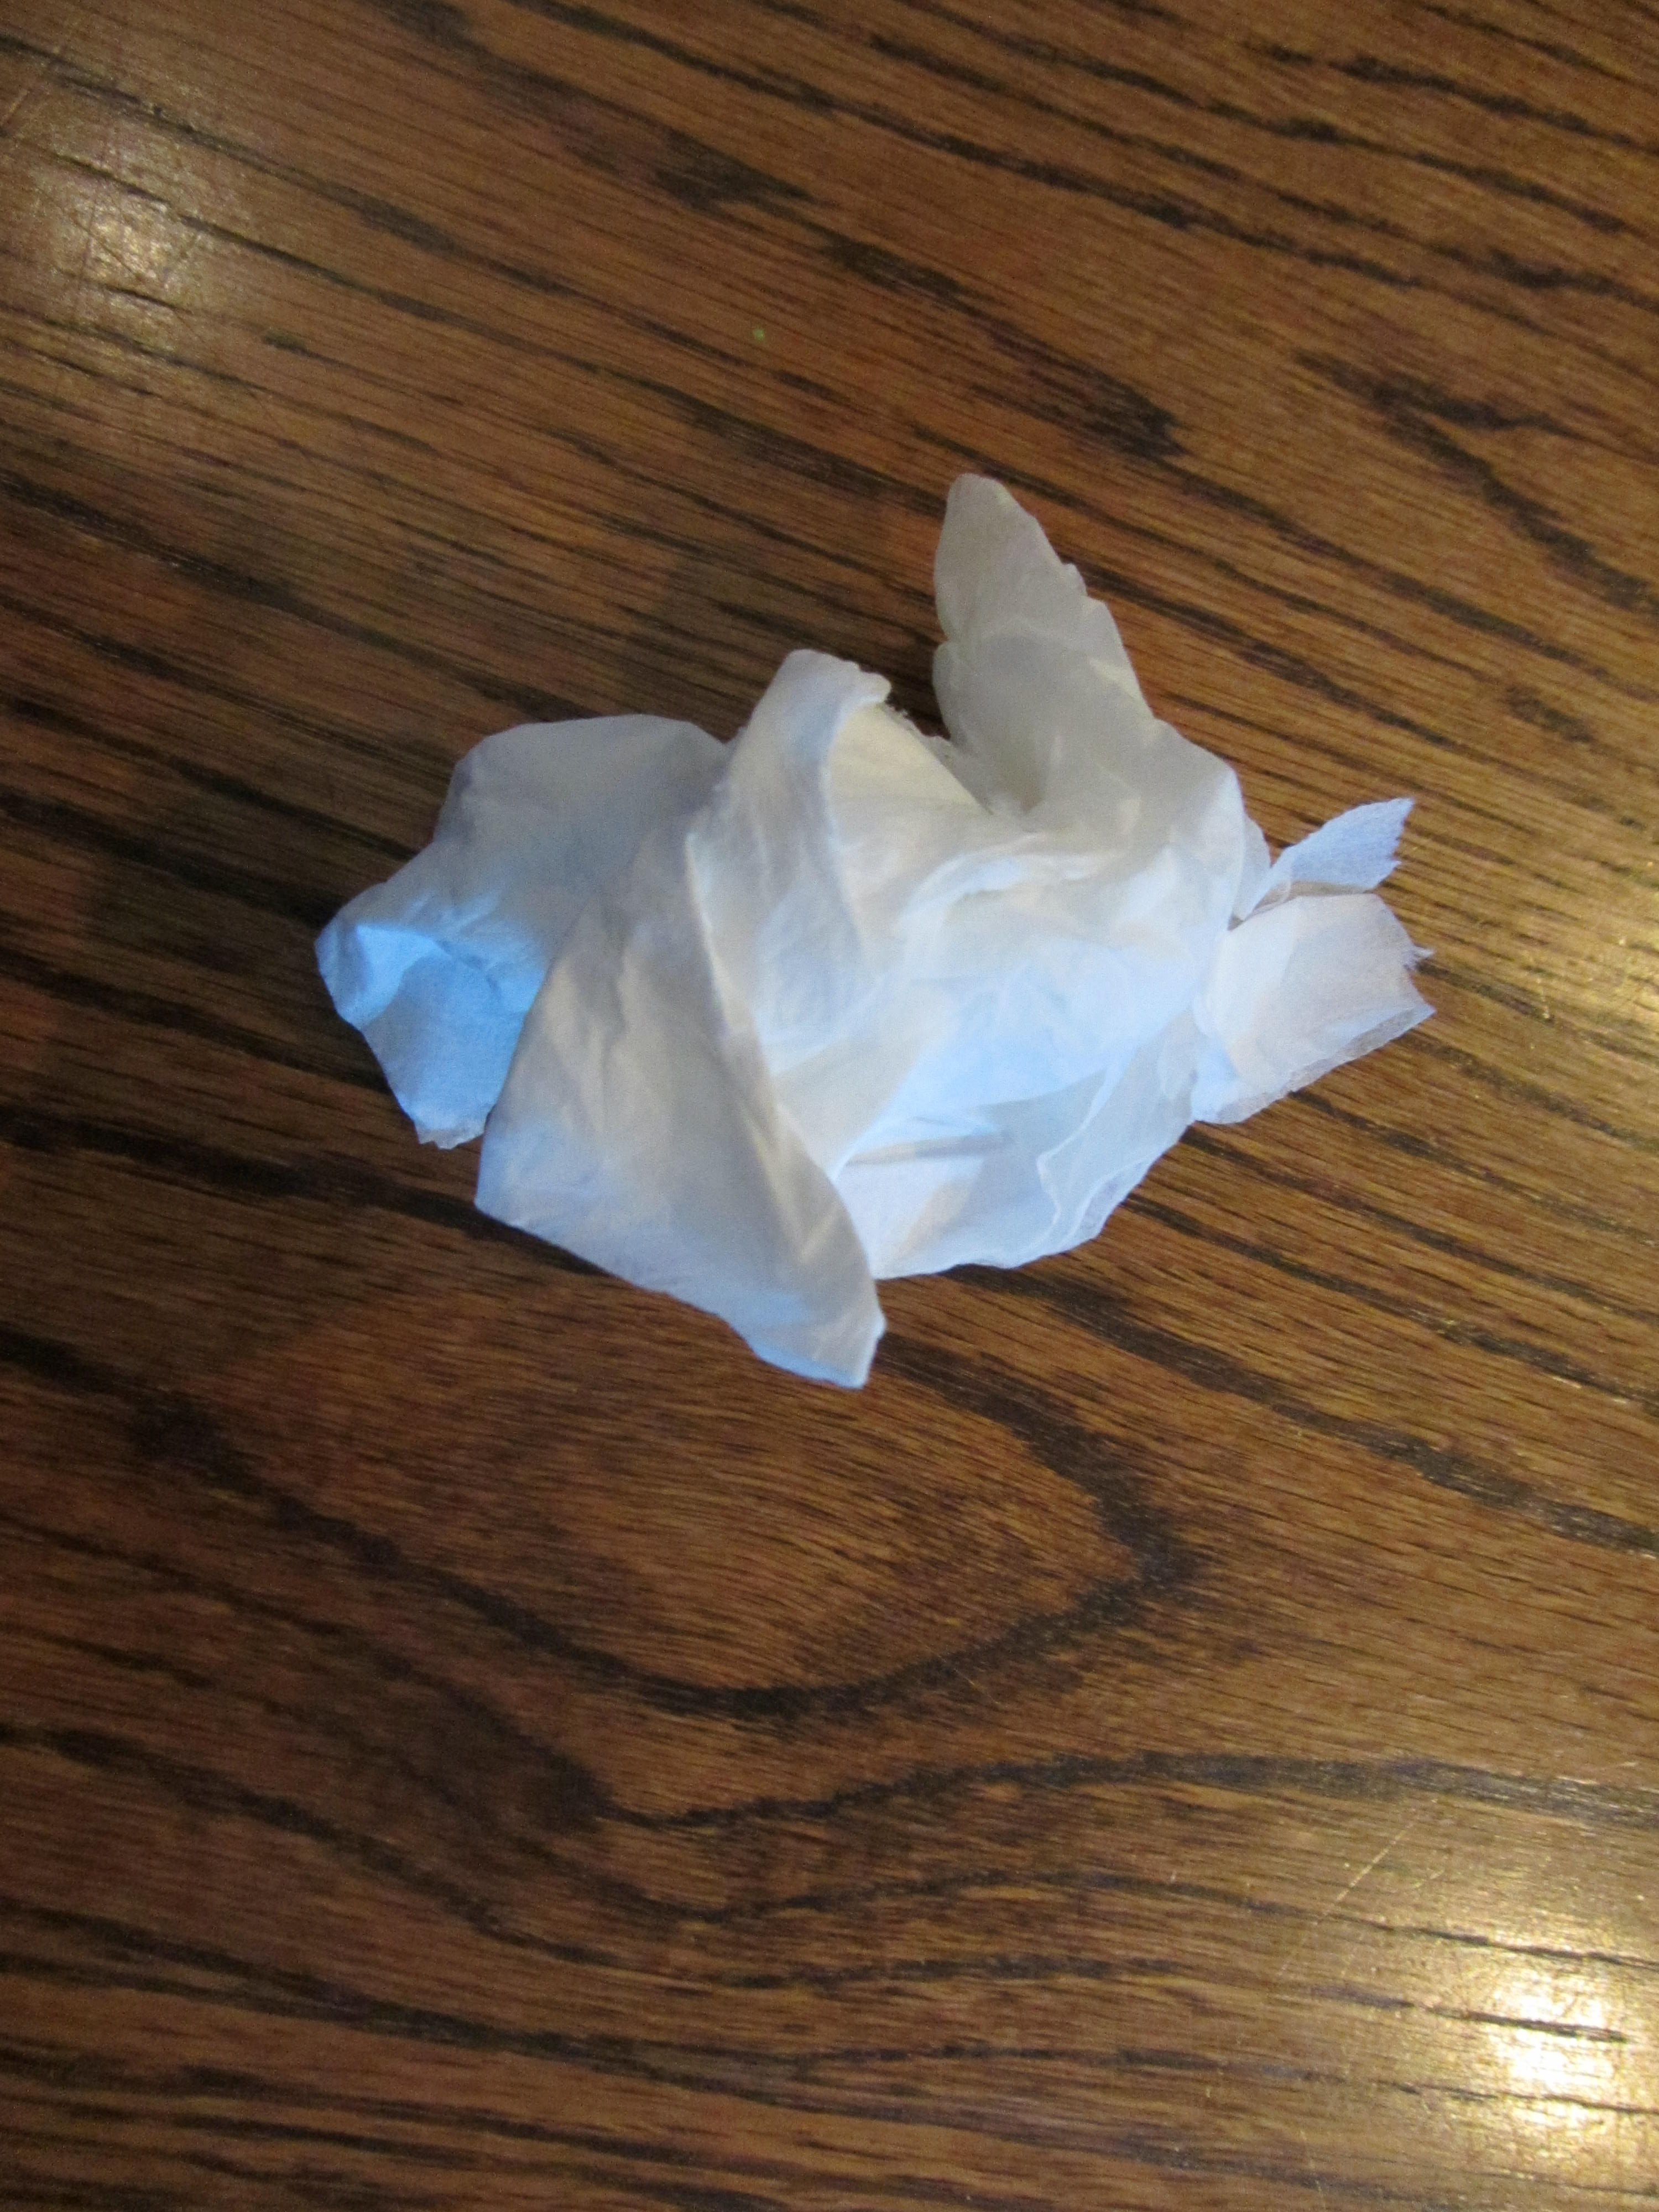tissue: (291, 472, 1412, 1411)
